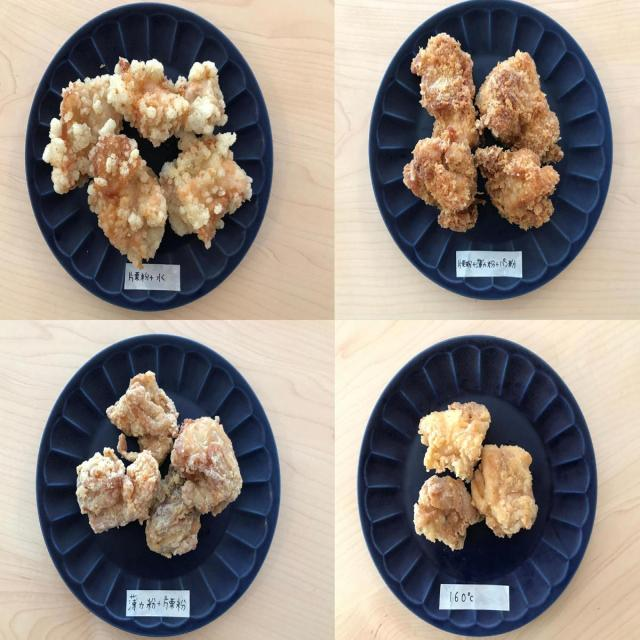Frango: (42, 52, 254, 273), (402, 28, 566, 233), (74, 368, 242, 563), (416, 399, 540, 555)
